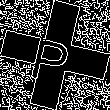P_N: (31, 26, 79, 84)
